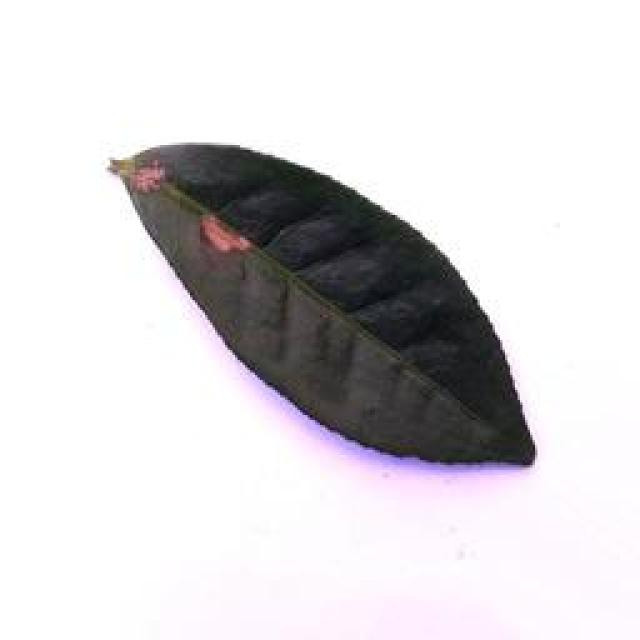Gray Blight: (105, 131, 538, 471)
